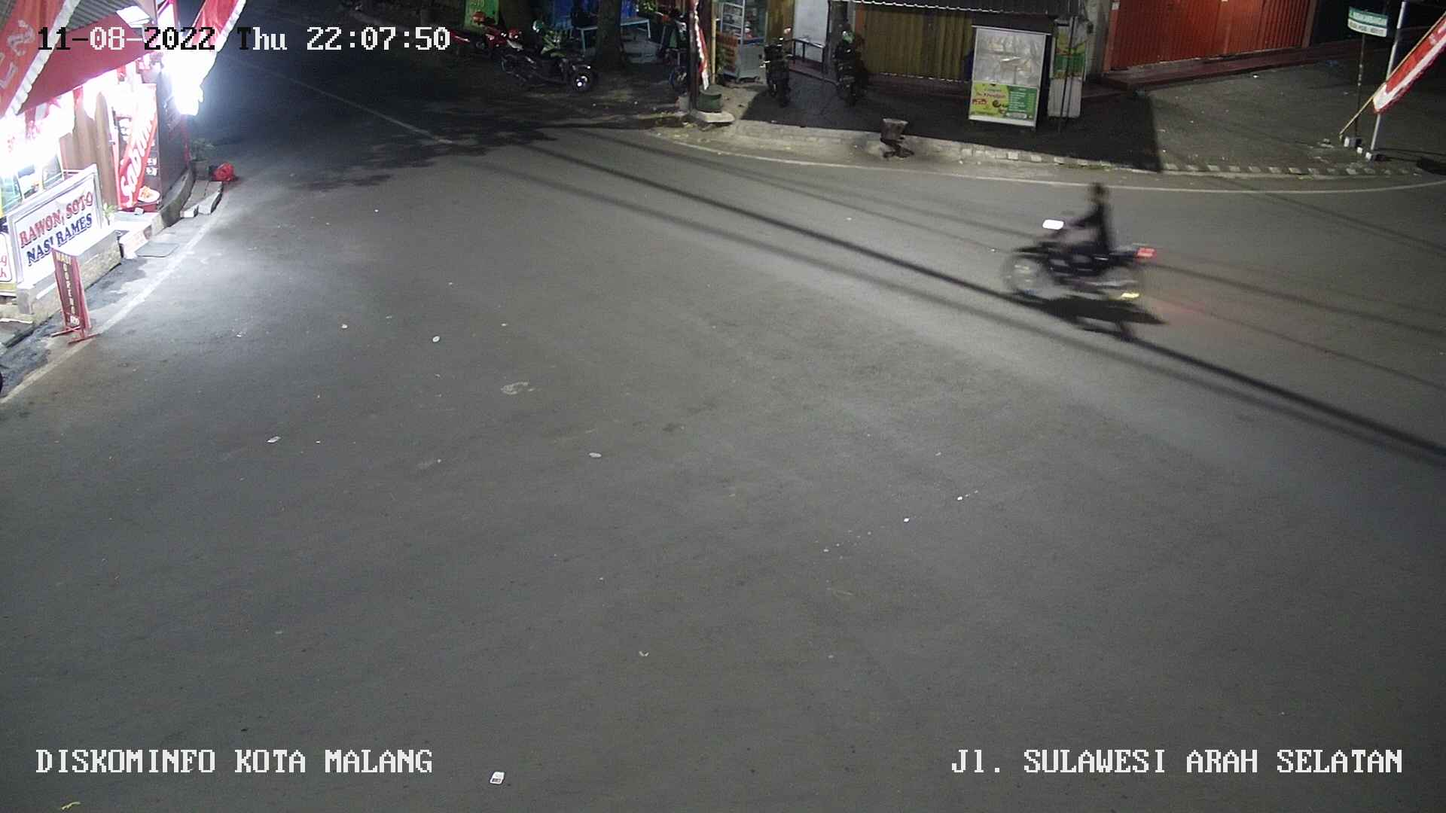without_helmet: (991, 172, 1186, 327)
